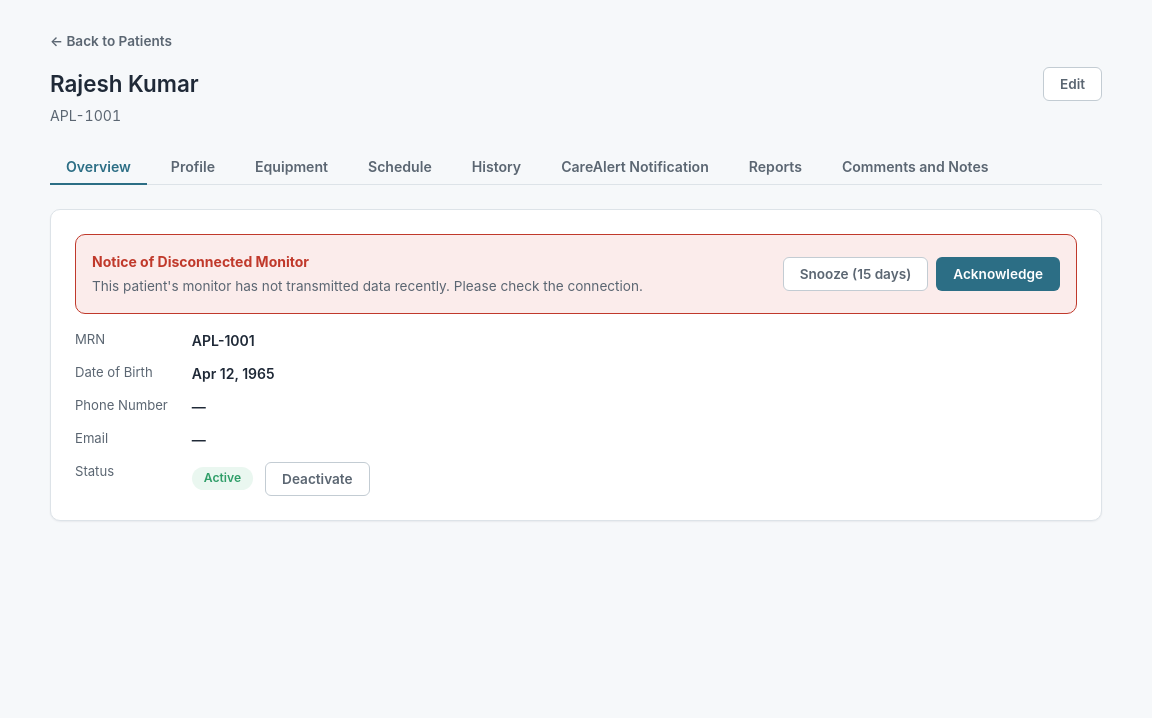
Test case: PatientDetailComponent › opens the Edit Patient modal pre-filled with the current patient, and closes it
Click the button "Edit" at (1072, 84), box x1=1043 y1=67 x2=1102 y2=101
(page scrolled)
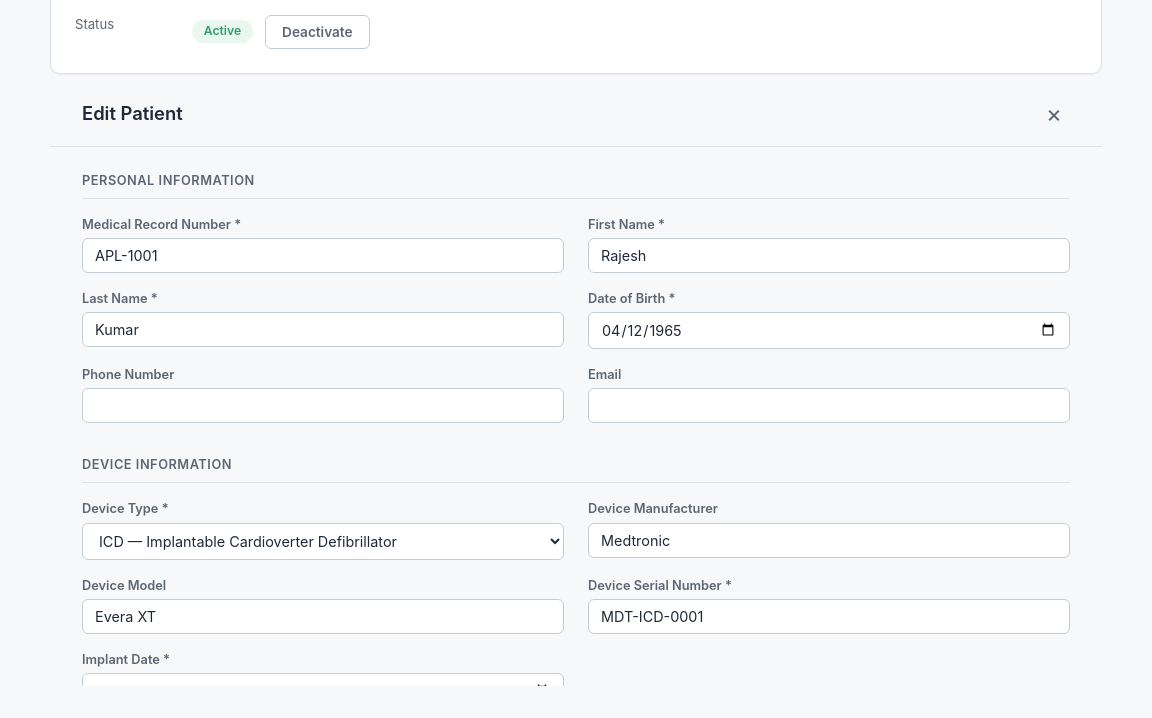
Expected: the element that starts with "Edit Patient" is shown
